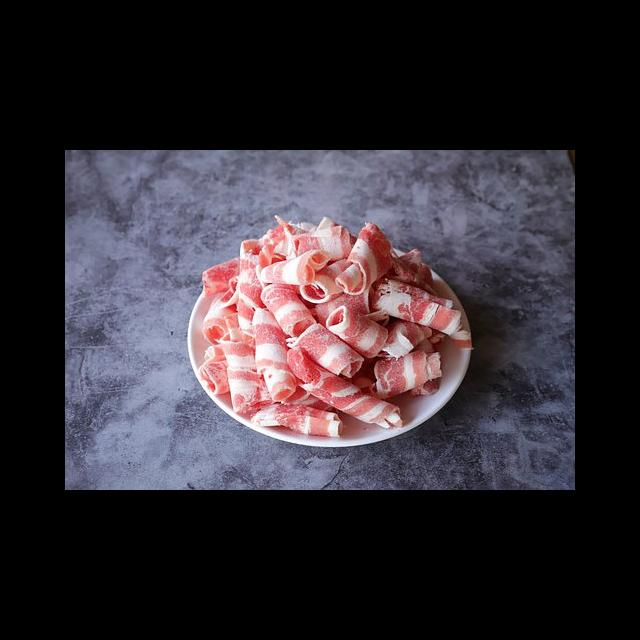pork: (292, 349, 397, 431), (220, 310, 293, 416), (370, 282, 463, 336), (260, 249, 331, 291)
